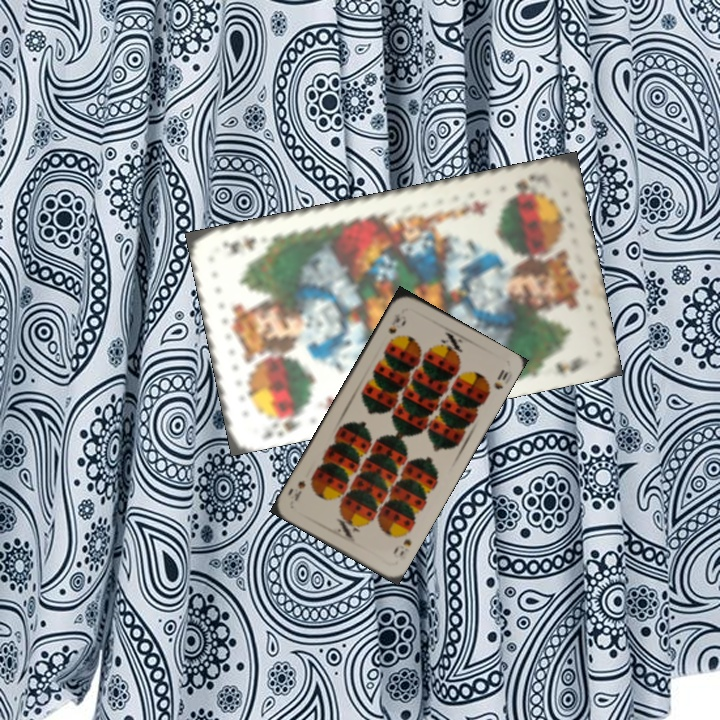S10: (389, 535, 414, 559), (384, 309, 403, 337)
SK: (274, 405, 306, 438), (503, 170, 537, 200)
